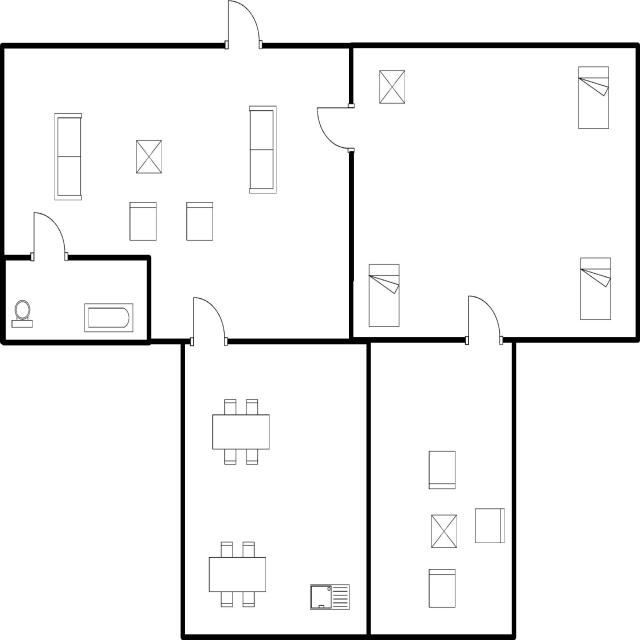bed: (574, 252, 616, 326), (364, 258, 402, 330), (575, 63, 611, 134)
coffee_table: (132, 135, 166, 178), (427, 510, 460, 552), (375, 67, 408, 108)
dining_table: (202, 536, 270, 612), (207, 394, 273, 470)
large_sink: (8, 298, 38, 332)
large_sofa: (50, 108, 88, 204), (244, 101, 280, 198)
sink: (308, 580, 352, 615)
small_sofa: (126, 195, 160, 247), (424, 447, 459, 494), (426, 565, 459, 614), (183, 198, 216, 245), (473, 505, 507, 548)
tub: (80, 298, 134, 336)
